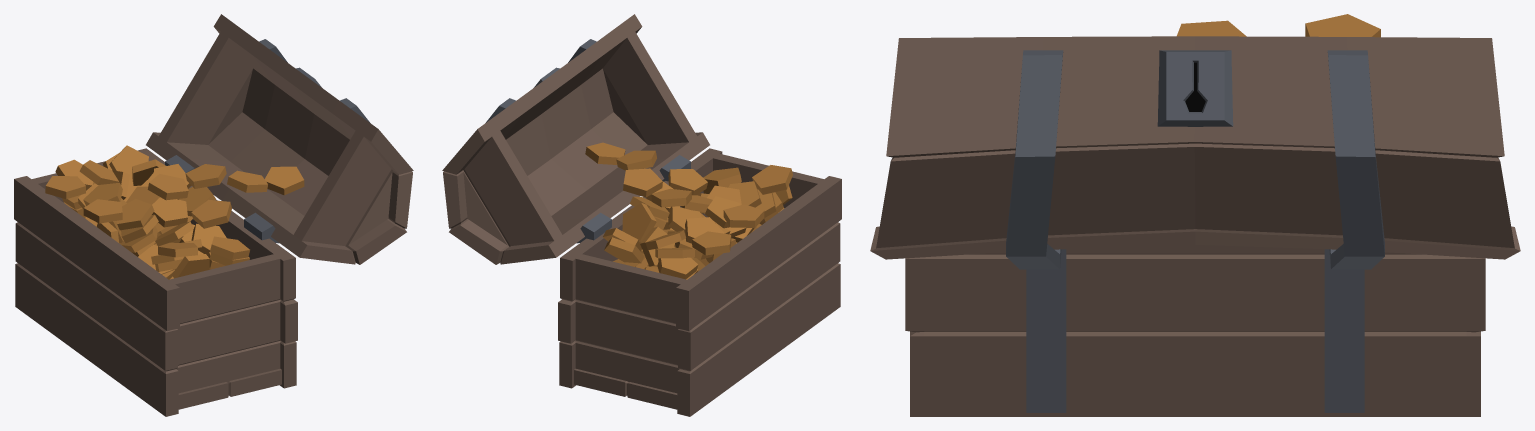
The model's file is Forzierer_cap.fbx.
3 views of the same model, side by side, from view 1: azimuth 30°, elevation 25°; view 2: azimuth 150°, elevation 25°; view 3: azimuth 270°, elevation 25° (orthographic). The views are drawn at different scales.
Parts seen in each view (by area): view 1: OpenChest.002; view 2: OpenChest.002; view 3: OpenChest.002.
Part boxes in pixels (box(x1,y1,x2,y2)): OpenChest.002: box(14, 14, 413, 416); OpenChest.002: box(442, 14, 841, 416); OpenChest.002: box(870, 14, 1520, 416).
Size of the model in its own units: 82.34 by 74.89 by 97.59.
